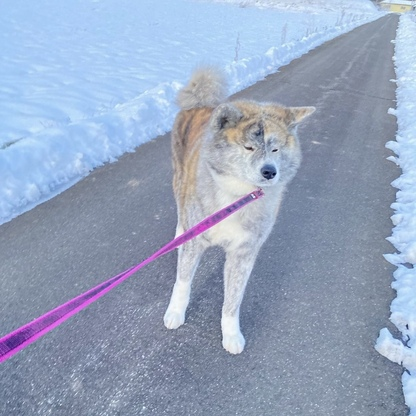akita: (154, 61, 319, 357)
